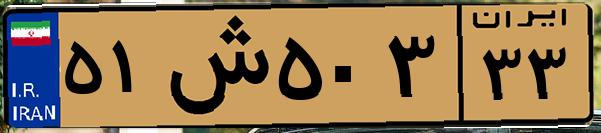0: (330, 28, 385, 110)
1: (110, 28, 158, 98)
3: (385, 28, 445, 110), (475, 38, 525, 113), (525, 38, 570, 115)
5: (270, 28, 330, 110), (57, 26, 110, 100)
ش: (158, 12, 270, 120)
